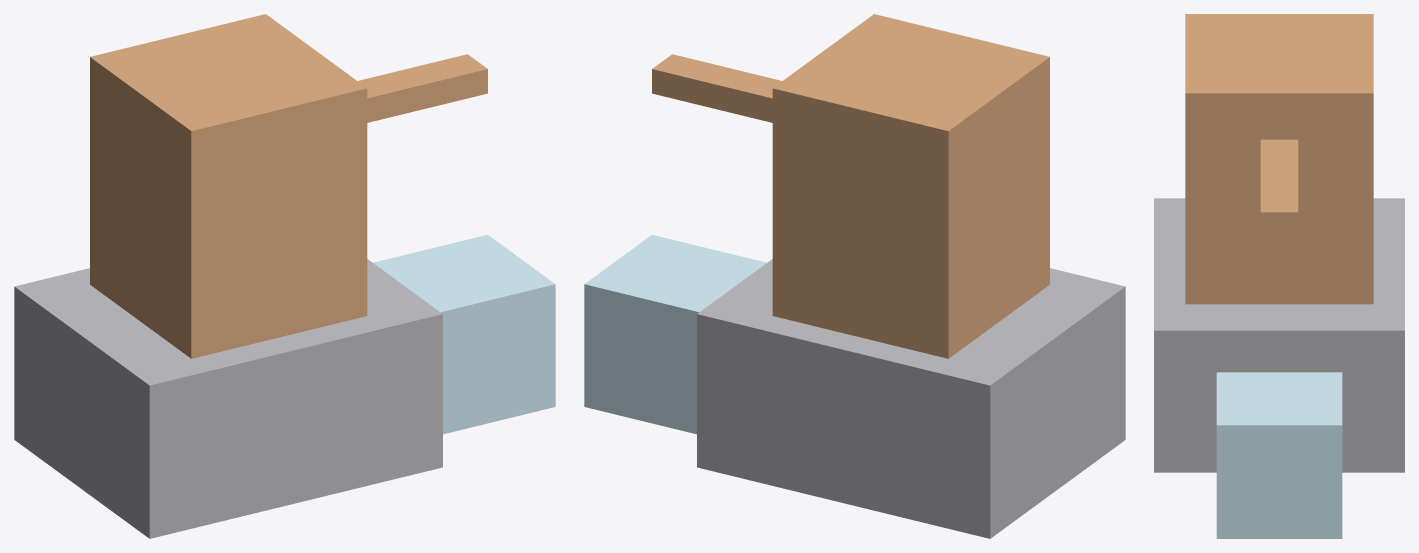
The model's file is Prop_Water_AMF_SolarStill_V5.glb.
3 views of the same model, side by side, from view 1: azimuth 30°, elevation 25°; view 2: azimuth 150°, elevation 25°; view 3: azimuth 270°, elevation 25° (orthographic). The views are drawn at different scales.
Visible parts, largest first — view 1: Prop_Water_AMF_SolarStill_V5; view 2: Prop_Water_AMF_SolarStill_V5; view 3: Prop_Water_AMF_SolarStill_V5.
Boxes of the visible parts, bbox=[...] form: Prop_Water_AMF_SolarStill_V5: bbox=[14, 14, 555, 538]; Prop_Water_AMF_SolarStill_V5: bbox=[584, 14, 1125, 538]; Prop_Water_AMF_SolarStill_V5: bbox=[1154, 14, 1404, 538].
Bounding box in the file's own units: 1.5 × 1.24 × 0.8.
